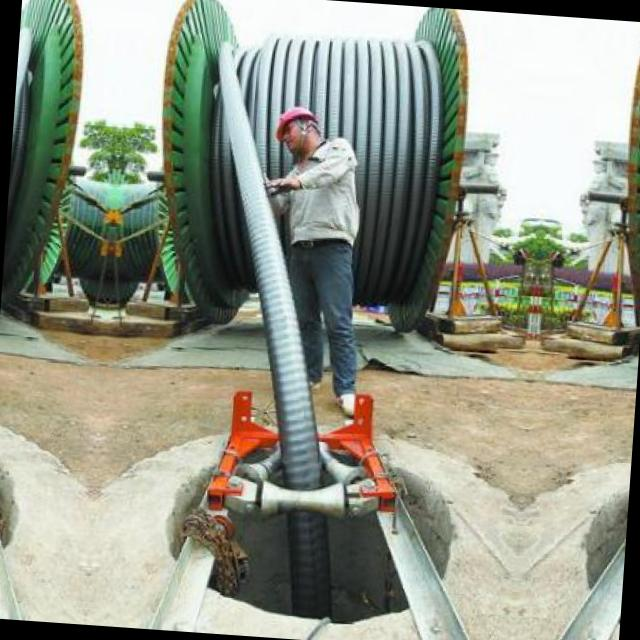helmet: (266, 96, 324, 158)
